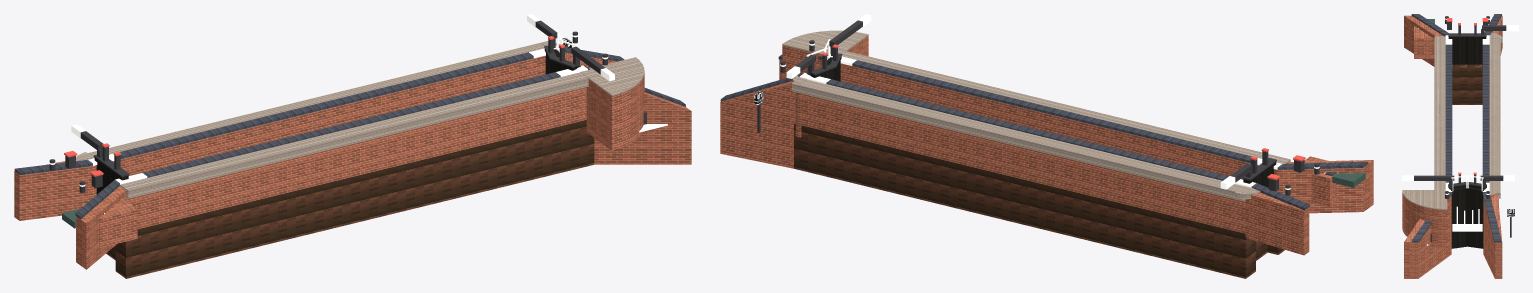
File: lock-57.glb
The picture shows the model from 3 angles, left to right: view 1: azimuth 30°, elevation 25°; view 2: azimuth 150°, elevation 25°; view 3: azimuth 270°, elevation 25°; orthographic projection. The views are drawn at different scales.
Visible parts, largest first — view 1: Chamber, ChamberWet, Edge, Coping.001, TopGateCap, Coping, TopGate; view 2: Chamber, ChamberWet, Edge, Coping.001, TopGateCap, Coping, TopGate; view 3: Chamber, Edge, Coping.001, TopGate, ChamberWet, TopGateCap, Coping, Leak, PaddleTop.
Part boxes in pixels (bbox=[...]): Chamber: bbox=[14, 47, 691, 269]; ChamberWet: bbox=[106, 120, 594, 278]; Edge: bbox=[76, 41, 644, 198]; Coping.001: bbox=[14, 47, 685, 219]; TopGateCap: bbox=[49, 20, 646, 192]; Coping: bbox=[49, 14, 614, 186]; TopGate: bbox=[94, 49, 580, 194]; Chamber: bbox=[720, 35, 1373, 255]; ChamberWet: bbox=[794, 123, 1284, 278]; Edge: bbox=[782, 30, 1290, 201]; Coping.001: bbox=[720, 53, 1368, 210]; TopGateCap: bbox=[757, 20, 1319, 195]; Coping: bbox=[780, 14, 1319, 189]; TopGate: bbox=[807, 57, 1276, 187]; Chamber: bbox=[1402, 15, 1502, 278]; Edge: bbox=[1402, 32, 1502, 209]; Coping.001: bbox=[1411, 14, 1501, 242]; TopGate: bbox=[1448, 37, 1486, 248]; ChamberWet: bbox=[1452, 64, 1482, 104]; TopGateCap: bbox=[1414, 16, 1511, 242]; Coping: bbox=[1402, 18, 1518, 194]; Leak: bbox=[1418, 28, 1482, 245]; PaddleTop: bbox=[1446, 18, 1488, 174].
Bounding box in the file's own units: 33.21 × 5.85 × 8.07.
Materials: 11 (8 with a texture image).
